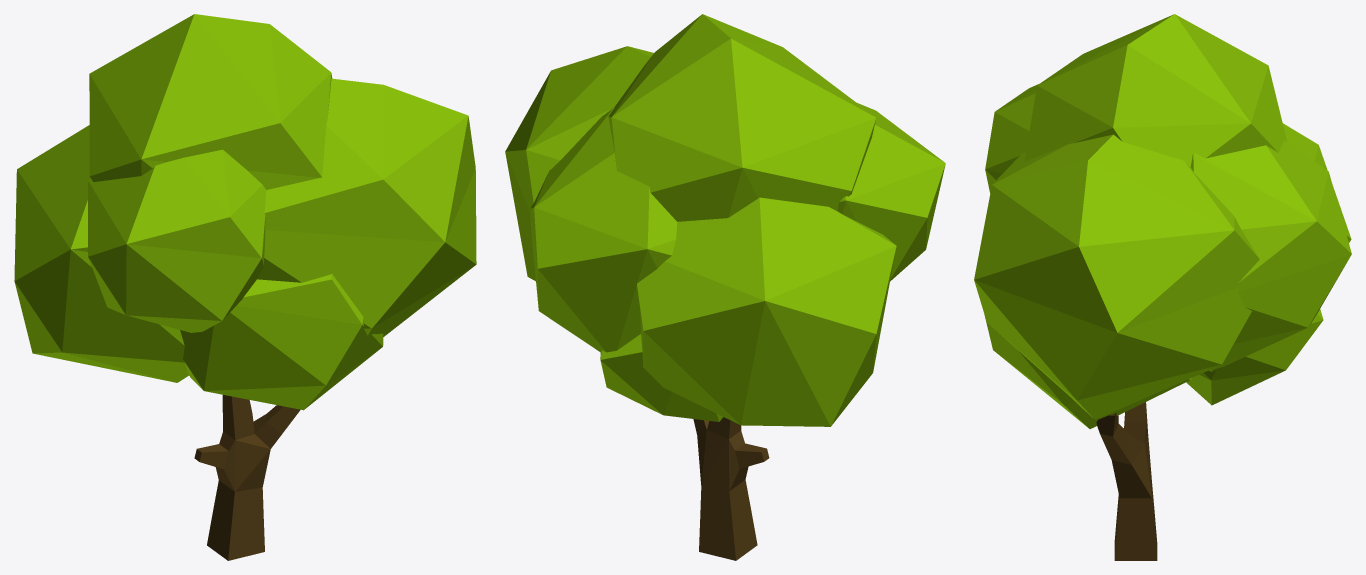
Rendered from Tree_Oak_Crown.fbx.
The picture shows the model from 3 angles, left to right: view 1: azimuth 30°, elevation 25°; view 2: azimuth 150°, elevation 25°; view 3: azimuth 270°, elevation 25°; orthographic projection.
Visible parts, largest first — view 1: Tree_Oak_Crown; view 2: Tree_Oak_Crown; view 3: Tree_Oak_Crown.
Part boxes in pixels (x1,y1,x2,y2): Tree_Oak_Crown: [14, 14, 476, 560]; Tree_Oak_Crown: [505, 14, 945, 560]; Tree_Oak_Crown: [974, 14, 1351, 560].
Size of the model in its own units: 417 by 505 by 328.
